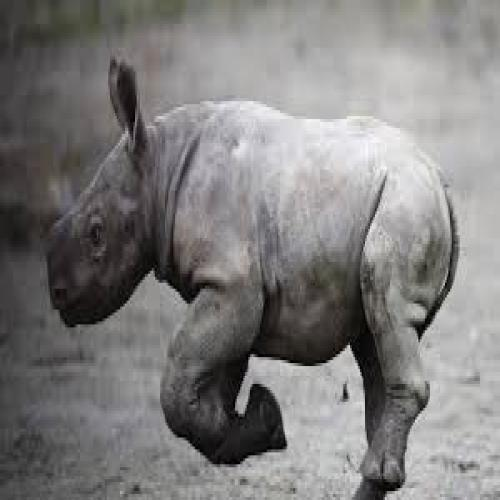rhino-endangered: (38, 42, 461, 500)
